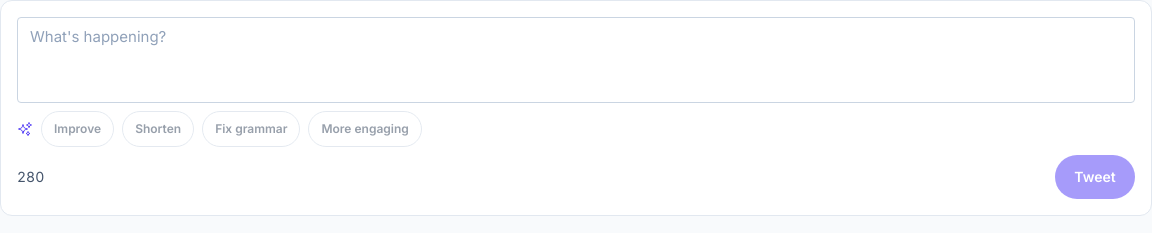
Test: Composer › updates the remaining character counter live while typing
Expected: the text with test id "composer-counter" reads "280", x1=17 y1=168 x2=44 y2=184
Type "hola" into the text box with placeholder "What's happening?" at (576, 60), box x1=17 y1=17 x2=1135 y2=102
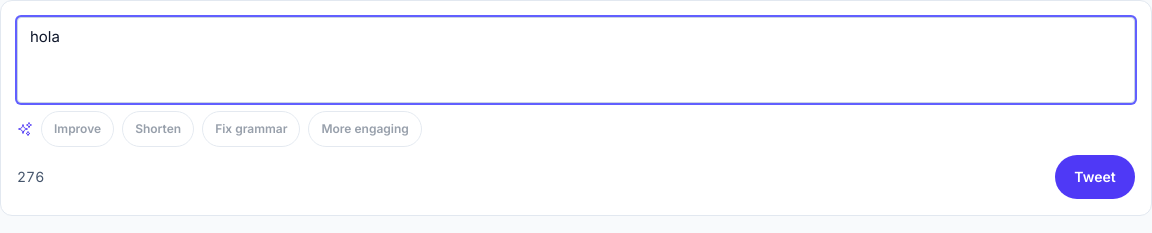
Expected: the text with test id "composer-counter" reads "276", x1=17 y1=168 x2=44 y2=184
